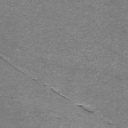finishing roll printing: (0, 57, 26, 74), (50, 88, 71, 102), (77, 105, 94, 114), (108, 121, 114, 126)
